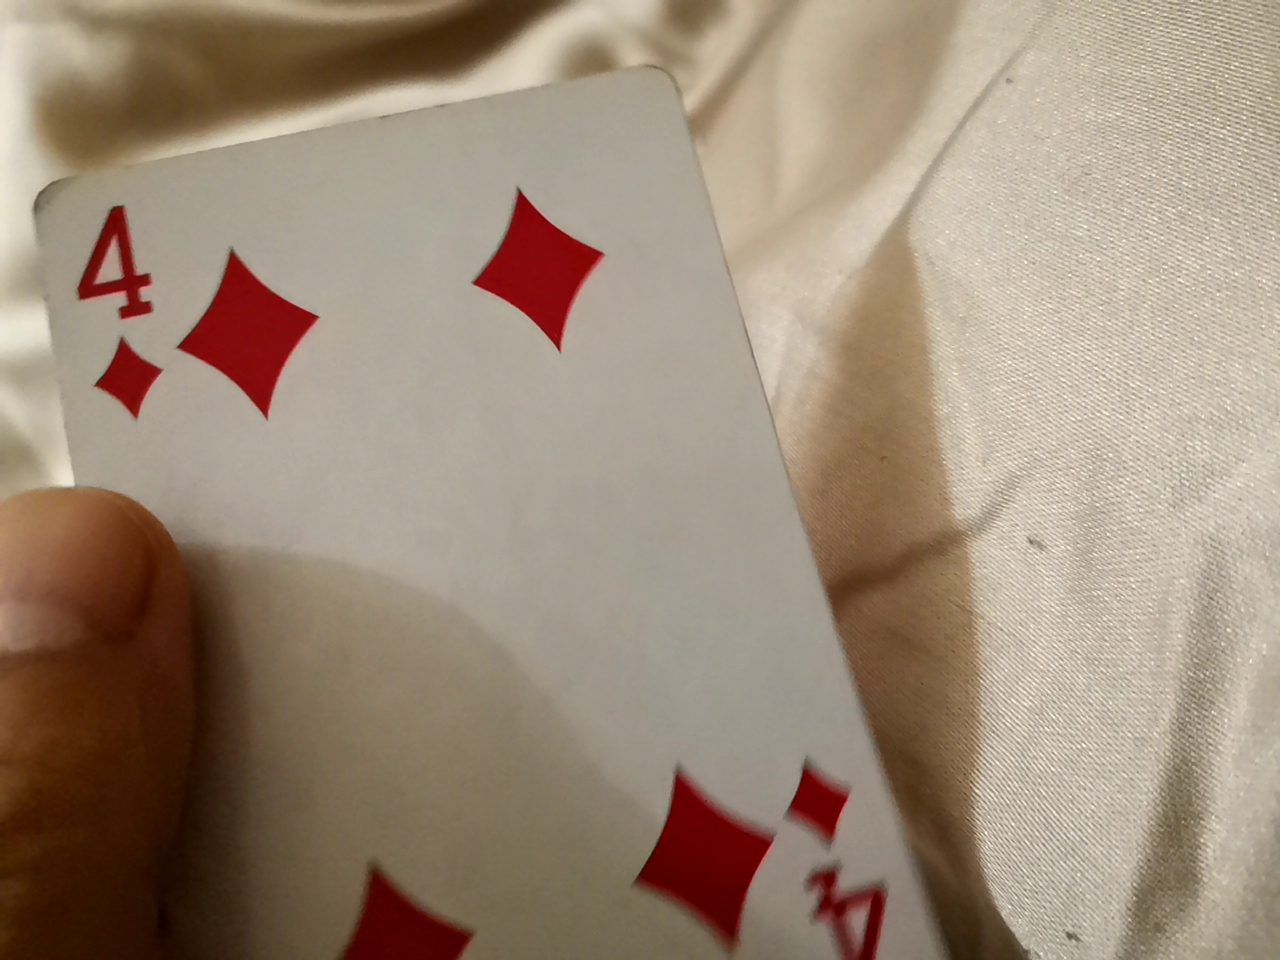fk 4: (74, 35, 905, 957)
